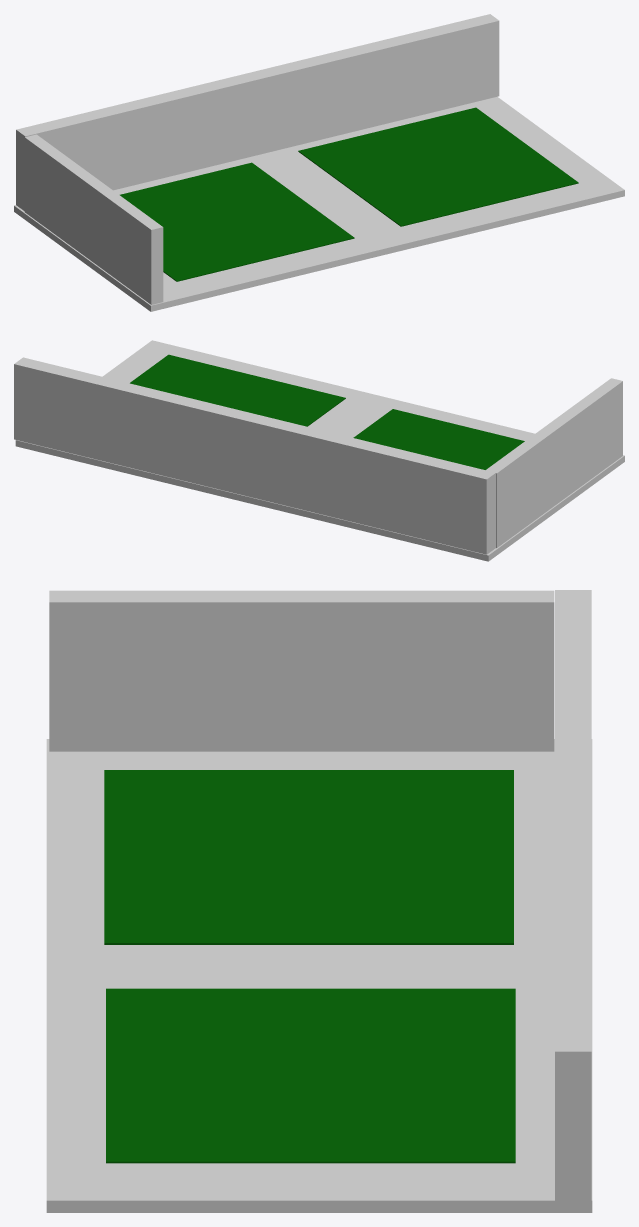
The model's file is floor(1x2).glb.
The picture shows the model from 3 angles, top to bottom: view 1: azimuth 30°, elevation 25°; view 2: azimuth 150°, elevation 25°; view 3: azimuth 270°, elevation 25°; orthographic projection. The views are drawn at different scales.
Parts seen in each view (by area): view 1: Cube.007, Cube, Cube.004, Cube.005, Cube.008; view 2: Cube.007, Cube, Cube.008, Cube.004, Cube.005; view 3: Cube, Cube.008, Cube.004, Cube.005, Cube.007.
Boxes of the visible parts, <box> form: Cube.007: <box>16,14,499,210</box>; Cube: <box>14,96,624,311</box>; Cube.004: <box>298,107,578,226</box>; Cube.005: <box>120,162,354,281</box>; Cube.008: <box>24,134,163,304</box>; Cube.007: <box>14,357,495,554</box>; Cube: <box>15,340,624,561</box>; Cube.008: <box>486,378,622,547</box>; Cube.004: <box>130,354,345,426</box>; Cube.005: <box>353,409,524,469</box>; Cube: <box>46,739,592,1212</box>; Cube.008: <box>49,590,554,751</box>; Cube.004: <box>106,988,515,1163</box>; Cube.005: <box>104,770,513,944</box>; Cube.007: <box>555,590,591,1201</box>.
Bounding box in the file's own units: 8.03 × 1.32 × 4.
